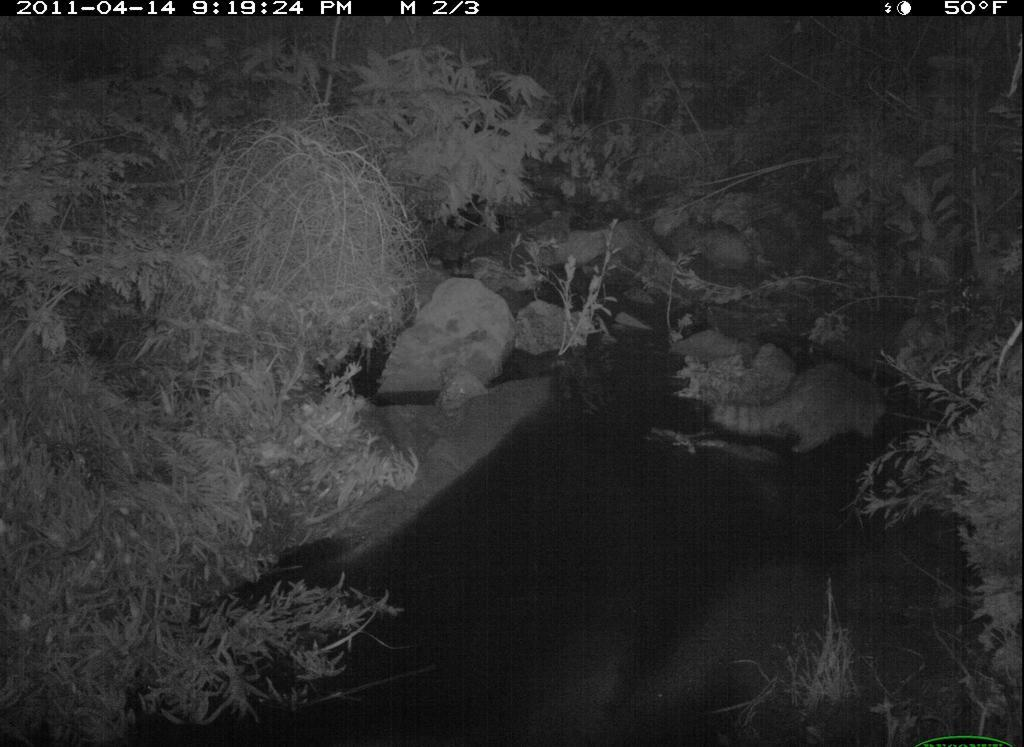raccoon: (701, 365, 899, 457)
